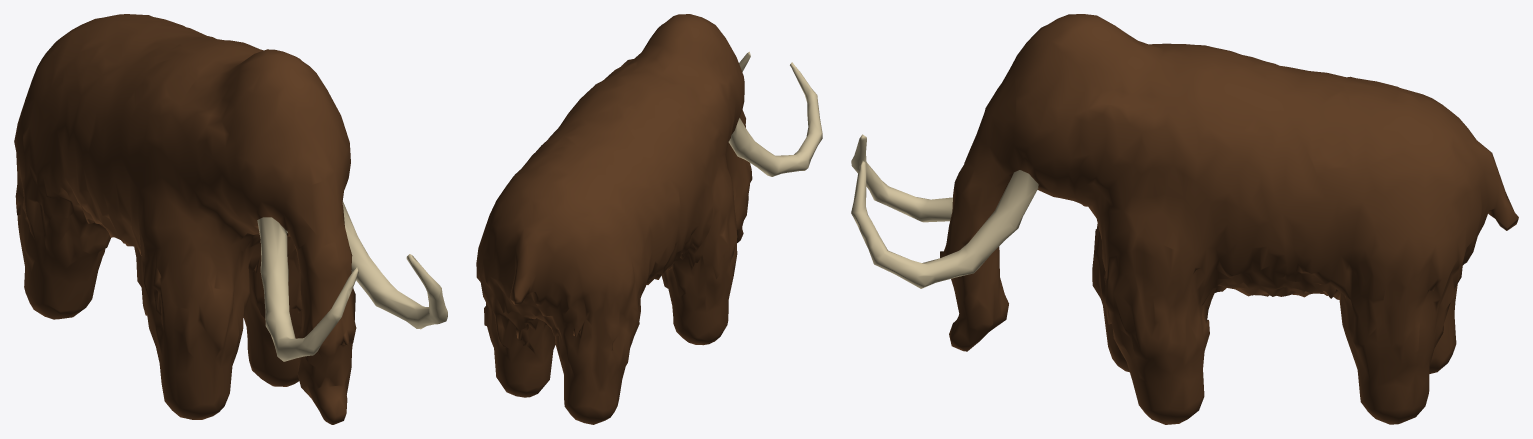
File: sdf_mammoth.obj
3 renders of one model, left to right at view 1: azimuth 30°, elevation 25°; view 2: azimuth 150°, elevation 25°; view 3: azimuth 270°, elevation 25°, orthographic. The views are drawn at different scales.
Visible parts, largest first — view 1: sdf_mammoth; view 2: sdf_mammoth; view 3: sdf_mammoth.
Part boxes in pixels (left/top/right/bottom): sdf_mammoth: left=14, top=14, right=447, bottom=424; sdf_mammoth: left=476, top=14, right=822, bottom=424; sdf_mammoth: left=851, top=14, right=1518, bottom=424.
Size of the model in its own units: 2.02 by 3.74 by 5.99.
